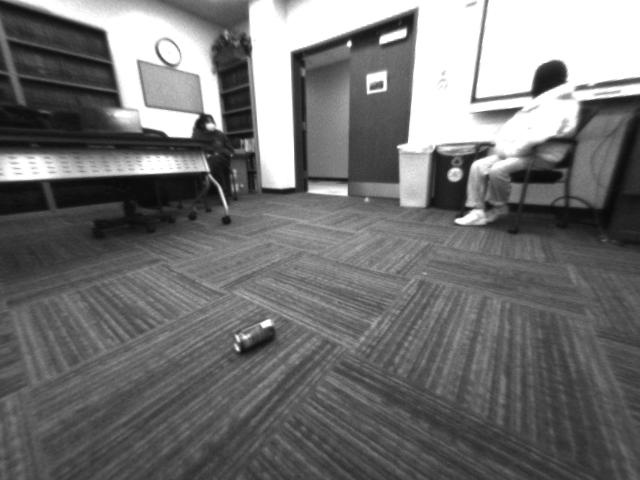can: (222, 317, 290, 355)
